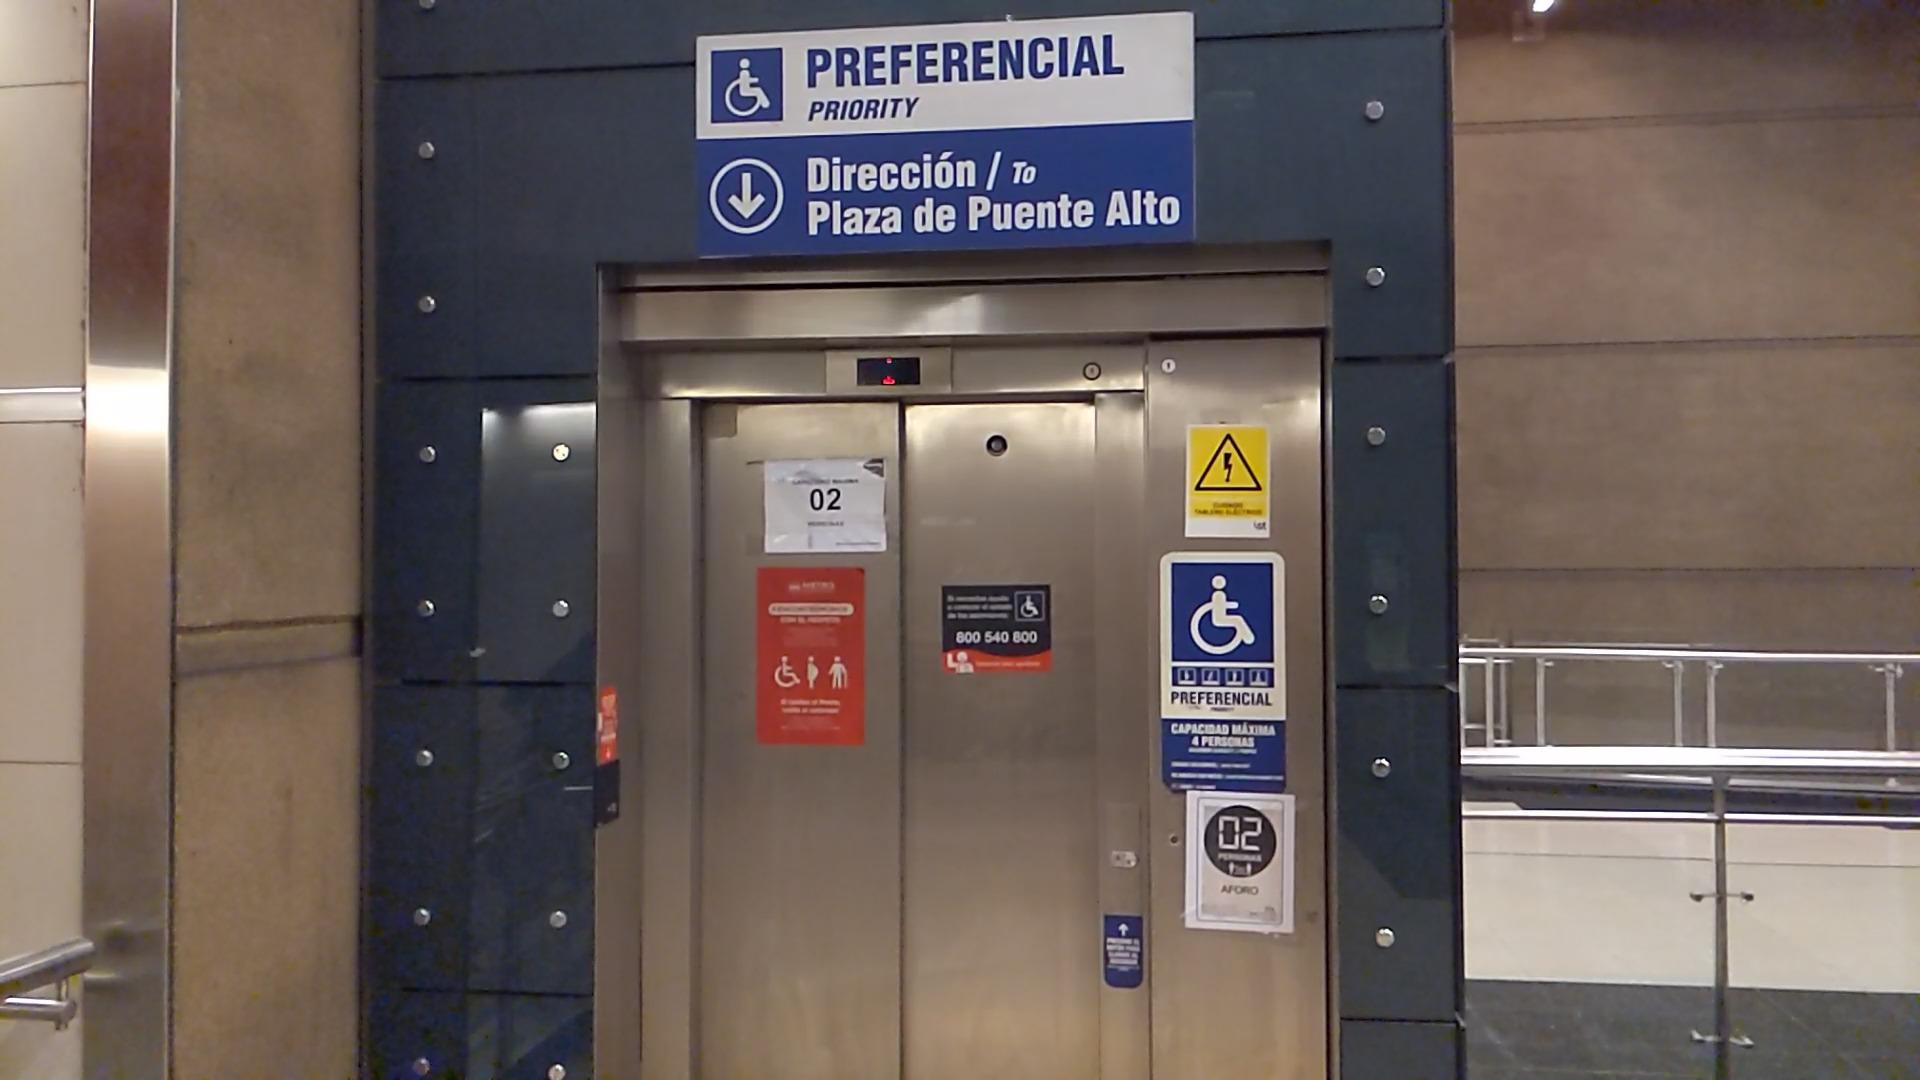danger-electricity: (1192, 430, 1262, 493)
down arrow: (727, 169, 767, 222)
handicapped symbol: (1189, 574, 1257, 658), (725, 57, 770, 119), (771, 654, 800, 688), (1019, 593, 1040, 618)
